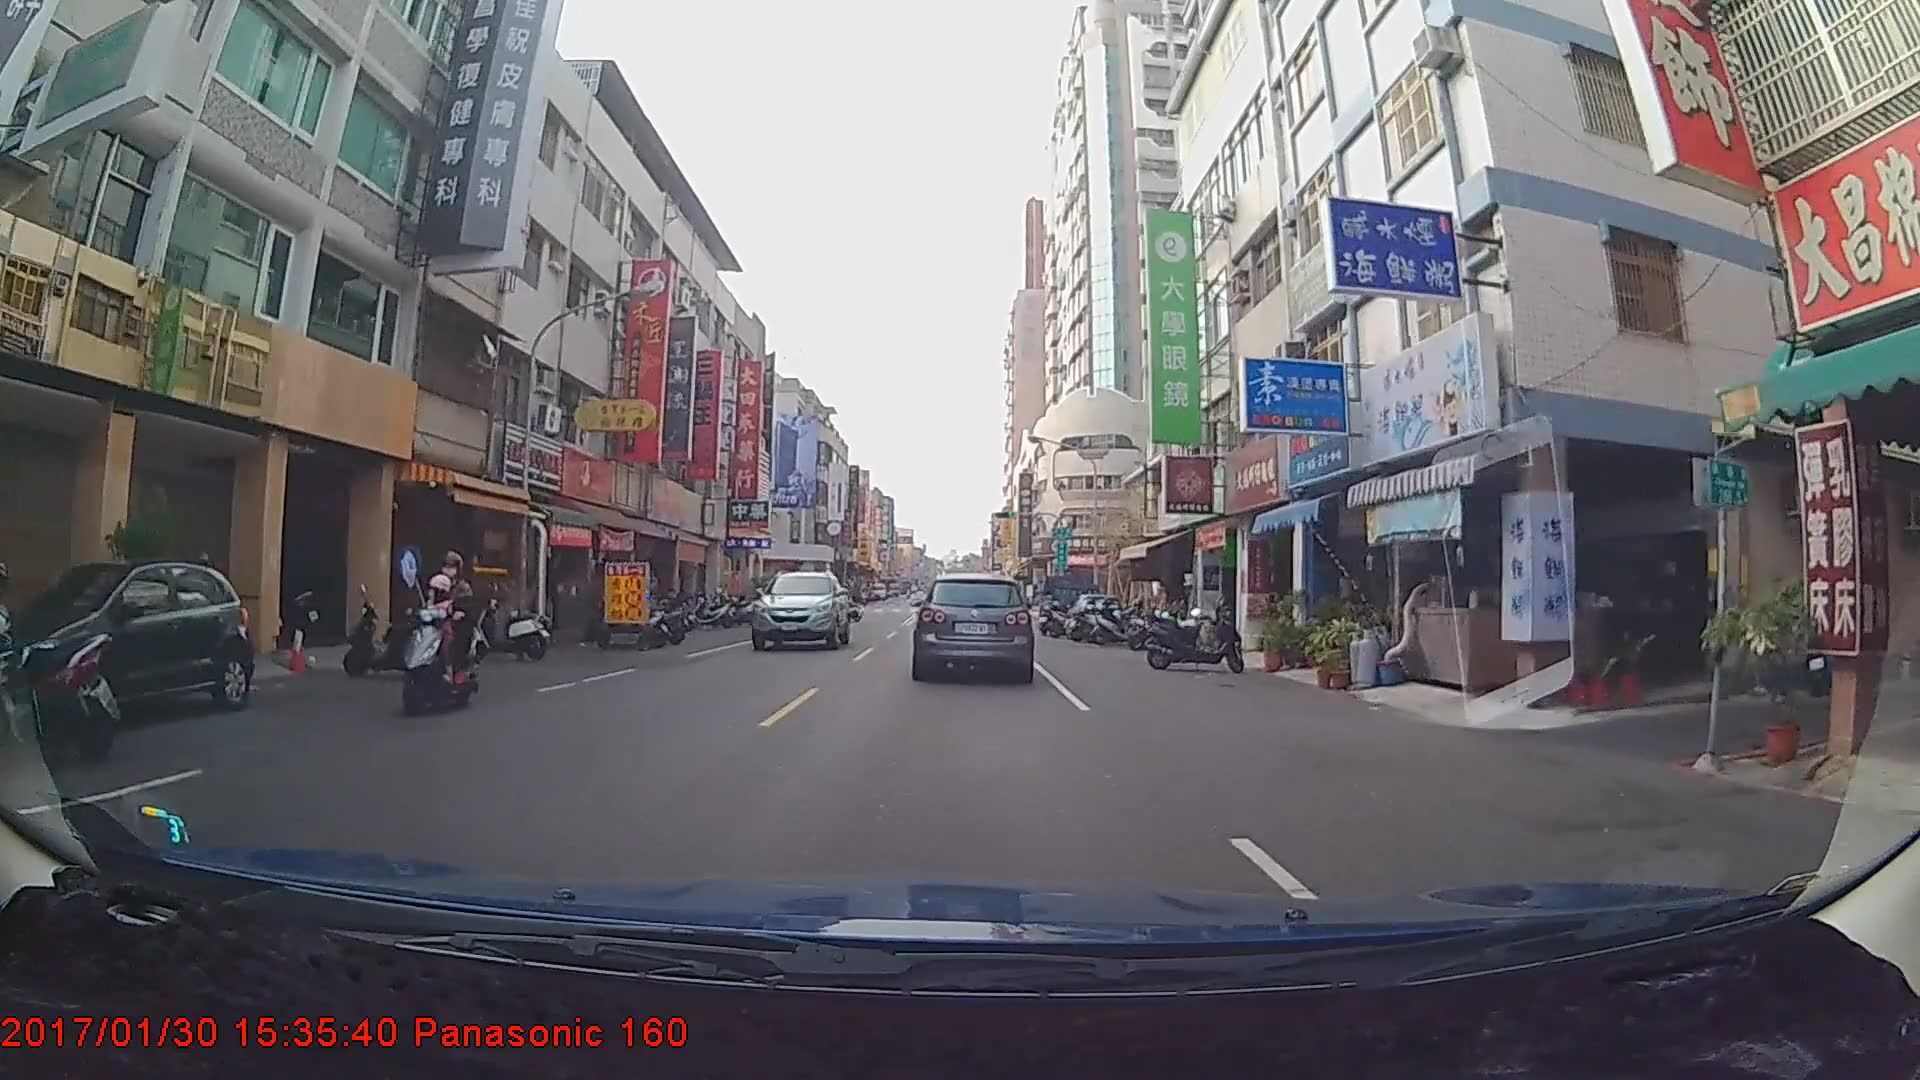rider: (397, 545, 487, 716)
vehicle: (913, 572, 1032, 680), (749, 570, 853, 652), (1037, 573, 1102, 630)
